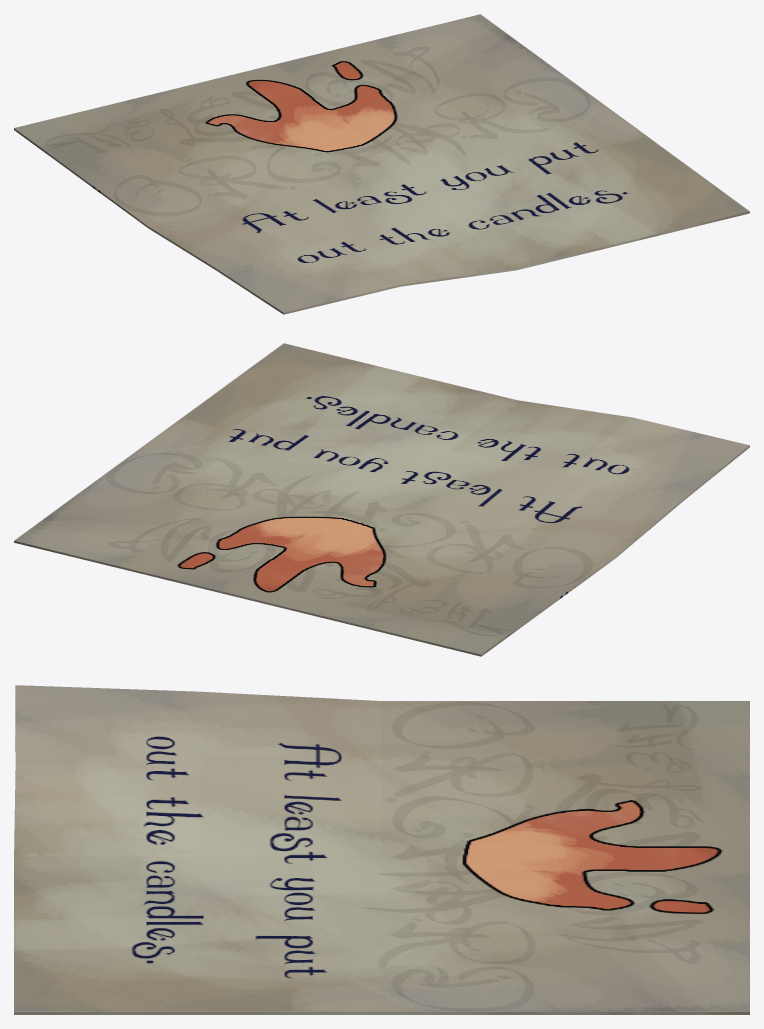
File: LO_notes_date_failed.glb
3 renders of one model, top to bottom at view 1: azimuth 30°, elevation 25°; view 2: azimuth 150°, elevation 25°; view 3: azimuth 270°, elevation 25°, orthographic. The views are drawn at different scales.
Parts seen in each view (by area): view 1: Plane.004; view 2: Plane.004; view 3: Plane.004.
Boxes of the visible parts, bbox=[...] form: Plane.004: bbox=[14, 14, 749, 314]; Plane.004: bbox=[14, 343, 749, 656]; Plane.004: bbox=[14, 685, 749, 1014].
Size of the model in its own units: 0.1099 by 0.00316 by 0.1099.
1 material, 1 textured.
